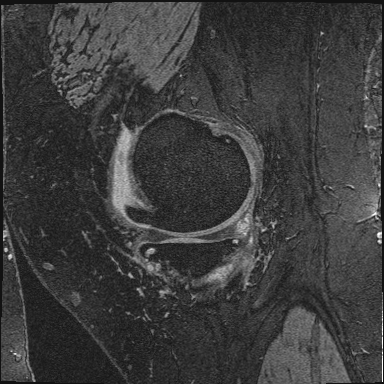effusion: (114, 135, 133, 207)
